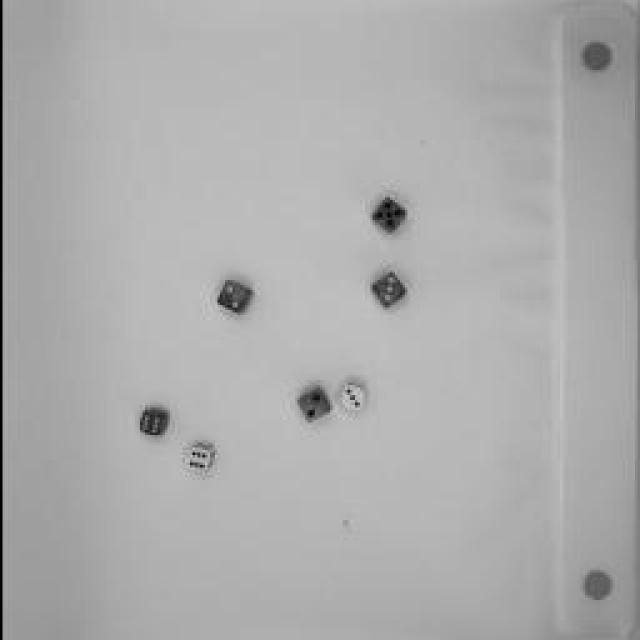dice_2: (291, 385, 331, 425), (212, 279, 252, 316)
dice_3: (366, 268, 409, 312), (335, 378, 370, 412)
dice_5: (362, 195, 408, 235)
dice_6: (131, 402, 169, 440), (184, 442, 214, 472)
